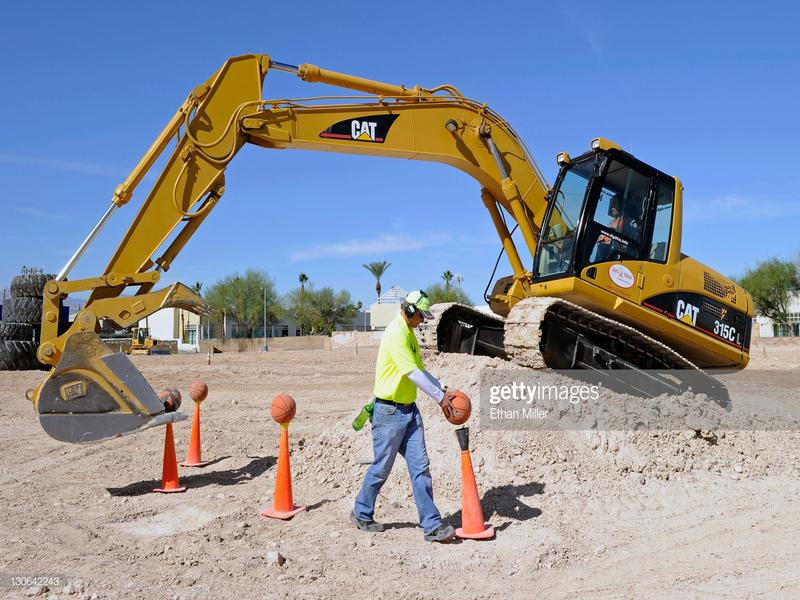Cone: (259, 430, 307, 520), (453, 451, 496, 539), (152, 422, 187, 493), (179, 403, 210, 468)
